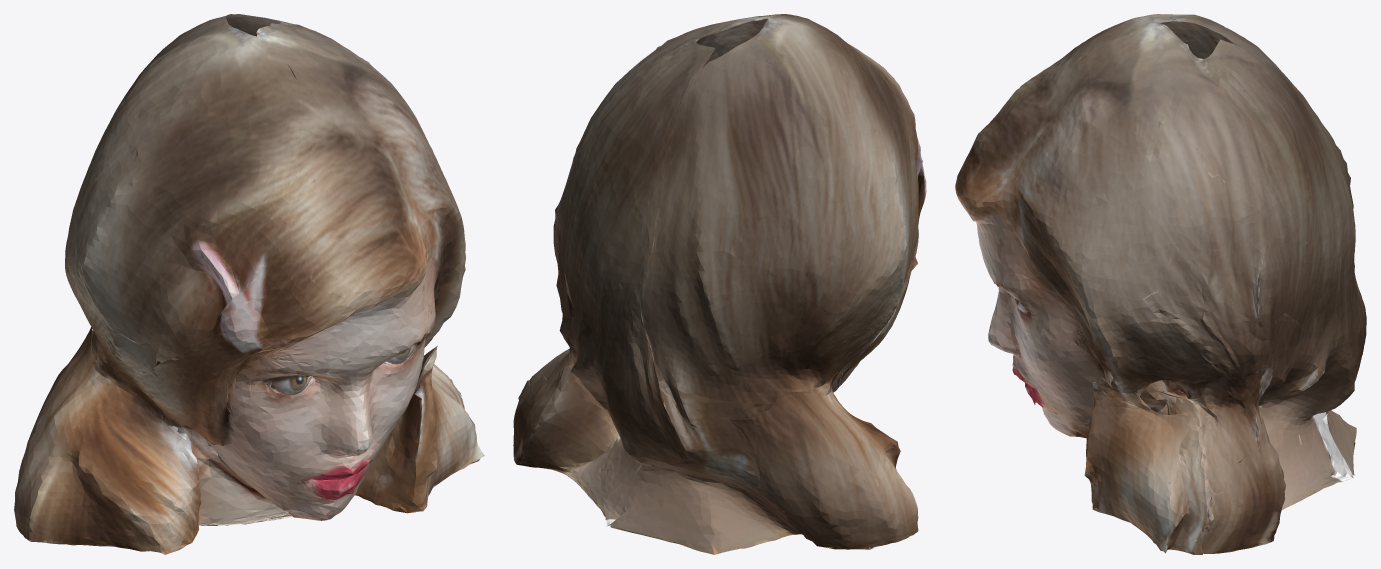
3 views of the same model, side by side, from view 1: azimuth 30°, elevation 25°; view 2: azimuth 150°, elevation 25°; view 3: azimuth 270°, elevation 25° (orthographic). The views are drawn at different scales.
Size of the model in its own units: 1.69 by 1.8 by 1.56.
1 material, 1 textured.
